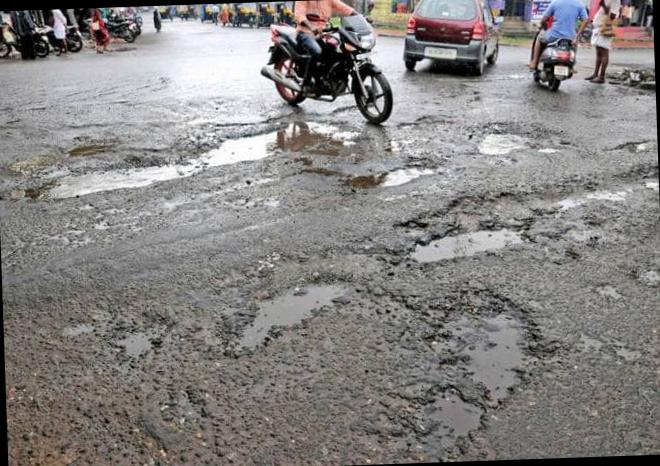pothole: (340, 279, 564, 463), (370, 135, 660, 276), (6, 108, 366, 218), (196, 252, 363, 362), (450, 114, 568, 172), (154, 378, 230, 458), (98, 302, 182, 372), (327, 151, 448, 199), (594, 257, 660, 319), (594, 127, 657, 166), (389, 108, 462, 138), (61, 132, 116, 164)
